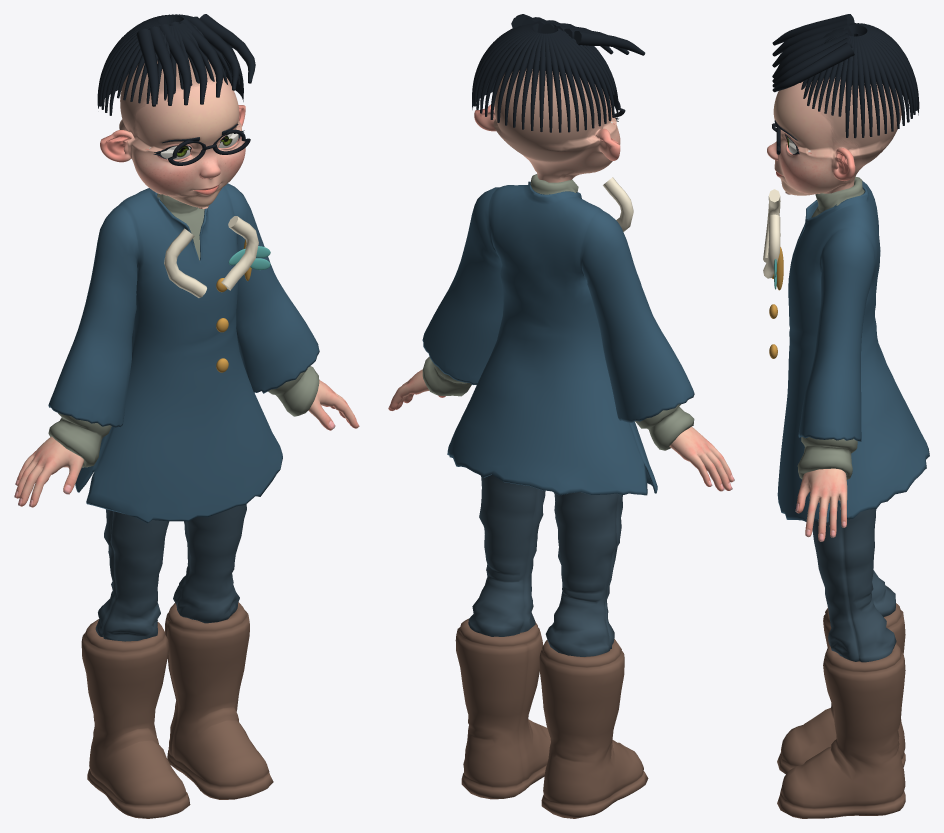
The model's file is actor-live-wang.glb.
The picture shows the model from 3 angles, left to right: view 1: azimuth 30°, elevation 25°; view 2: azimuth 150°, elevation 25°; view 3: azimuth 270°, elevation 25°; orthographic projection.
Visible parts, largest first — view 1: GEO-spring_jacket.001, GEO_spring_boots.l.001, GEO_spring_boots.r.001, GEO_spring_pants.001, GEO-spring_head.001, GEO-spring_pullover.001, GEO_spring_arms.001, signature lapel.002, signature lapel.003, side fringe.007, side fringe.013, side fringe.012 (+4 smaller); view 2: GEO-spring_jacket.001, GEO_spring_pants.001, GEO_spring_boots.r.001, GEO_spring_boots.l.001, GEO-spring_head.001, GEO-spring_pullover.001, GEO_spring_arms.001, side fringe.007, signature lapel.002; view 3: GEO-spring_jacket.001, GEO_spring_boots.l.001, GEO-spring_head.001, GEO_spring_pants.001, GEO_spring_boots.r.001, GEO_spring_arms.001, GEO-spring_pullover.001, side fringe.013, signature lapel.003, side fringe.012, side fringe.007, side fringe.008 (+15 smaller).
Boxes of the visible parts, left/top/right/bottom form: GEO-spring_jacket.001: left=48, top=183, right=319, bottom=523; GEO_spring_boots.l.001: left=165, top=602, right=273, bottom=799; GEO_spring_boots.r.001: left=81, top=619, right=190, bottom=818; GEO_spring_pants.001: left=95, top=504, right=246, bottom=641; GEO-spring_head.001: left=100, top=58, right=245, bottom=208; GEO-spring_pullover.001: left=48, top=193, right=319, bottom=467; GEO_spring_arms.001: left=14, top=380, right=359, bottom=507; signature lapel.002: left=164, top=228, right=206, bottom=297; signature lapel.003: left=221, top=216, right=258, bottom=290; side fringe.007: left=136, top=28, right=158, bottom=106; side fringe.013: left=199, top=14, right=255, bottom=83; side fringe.012: left=189, top=16, right=239, bottom=90; GEO-spring_jacket.001: left=422, top=181, right=694, bottom=495; GEO_spring_pants.001: left=468, top=474, right=622, bottom=656; GEO_spring_boots.r.001: left=539, top=639, right=648, bottom=818; GEO_spring_boots.l.001: left=455, top=618, right=550, bottom=799; GEO-spring_head.001: left=474, top=69, right=620, bottom=182; GEO-spring_pullover.001: left=422, top=174, right=694, bottom=450; GEO_spring_arms.001: left=388, top=369, right=734, bottom=491; side fringe.007: left=574, top=31, right=645, bottom=55; signature lapel.002: left=603, top=177, right=633, bottom=231; GEO-spring_jacket.001: left=777, top=181, right=929, bottom=523; GEO_spring_boots.l.001: left=777, top=643, right=905, bottom=818; GEO-spring_head.001: left=767, top=77, right=901, bottom=195; GEO_spring_pants.001: left=812, top=503, right=896, bottom=662; GEO_spring_boots.r.001: left=777, top=603, right=905, bottom=774; GEO_spring_arms.001: left=795, top=468, right=847, bottom=541; GEO-spring_pullover.001: left=797, top=176, right=864, bottom=479; side fringe.013: left=772, top=42, right=854, bottom=92; signature lapel.003: left=763, top=214, right=780, bottom=278; side fringe.012: left=772, top=38, right=852, bottom=87; side fringe.007: left=772, top=14, right=854, bottom=45; side fringe.008: left=772, top=18, right=852, bottom=56.
Size of the model in its own units: 0.8028 by 1.73 by 0.3441.
Materials: 19 (3 with a texture image).
